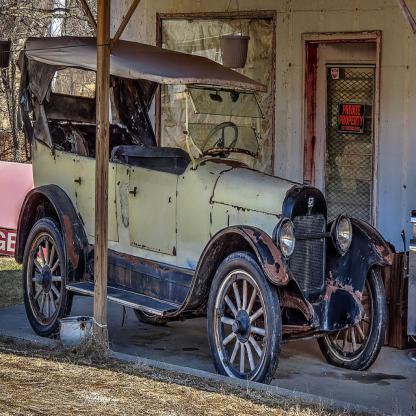Car: (13, 37, 400, 387)
